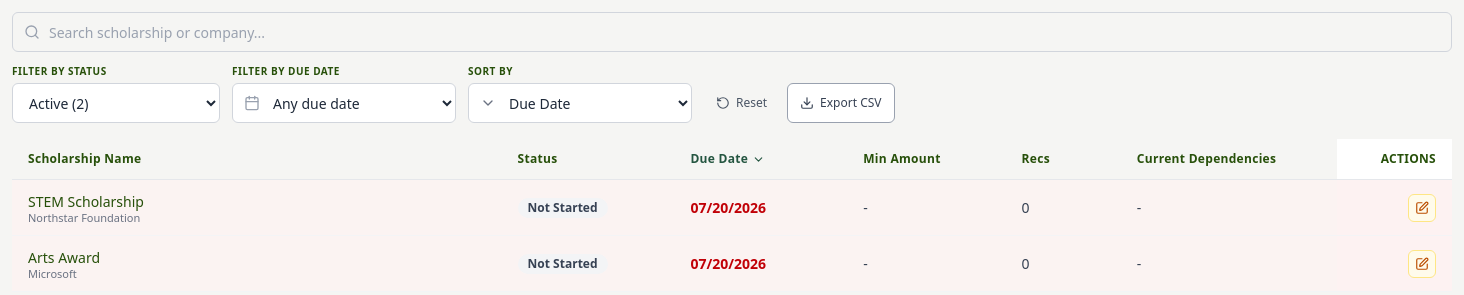
GridView › searches scholarship and organization names with partial matching
This screenshot has width=1464, height=295.
Type "soft" into the search field labelled "Search scholarship or company". click: point(732, 32)
box: [12, 12, 1452, 52]
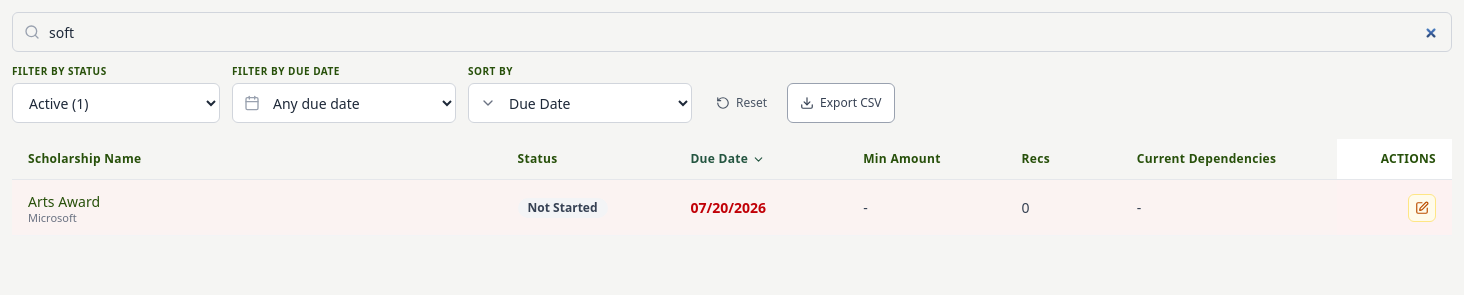
Check: the text "Arts Award" is shown, box [28, 192, 100, 210]
Check: the text "STEM Scholarship" is gone
